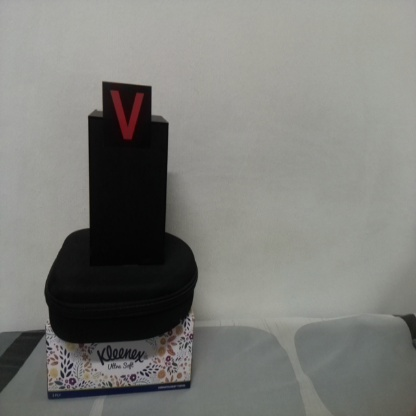id_11: (103, 82, 152, 153)
